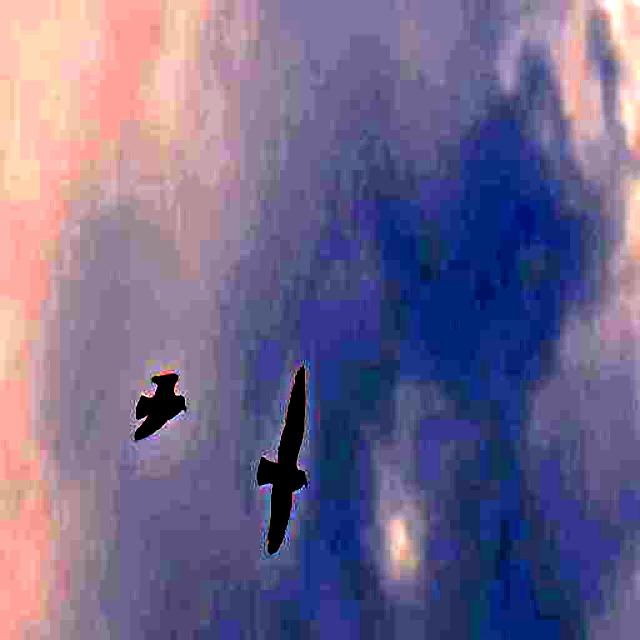airplane: (248, 341, 318, 566), (128, 344, 200, 446)
